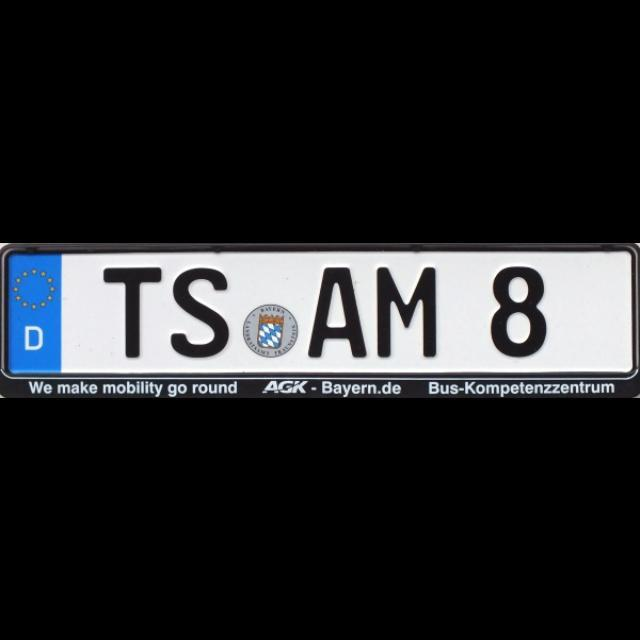license-plates: (4, 246, 640, 380)
